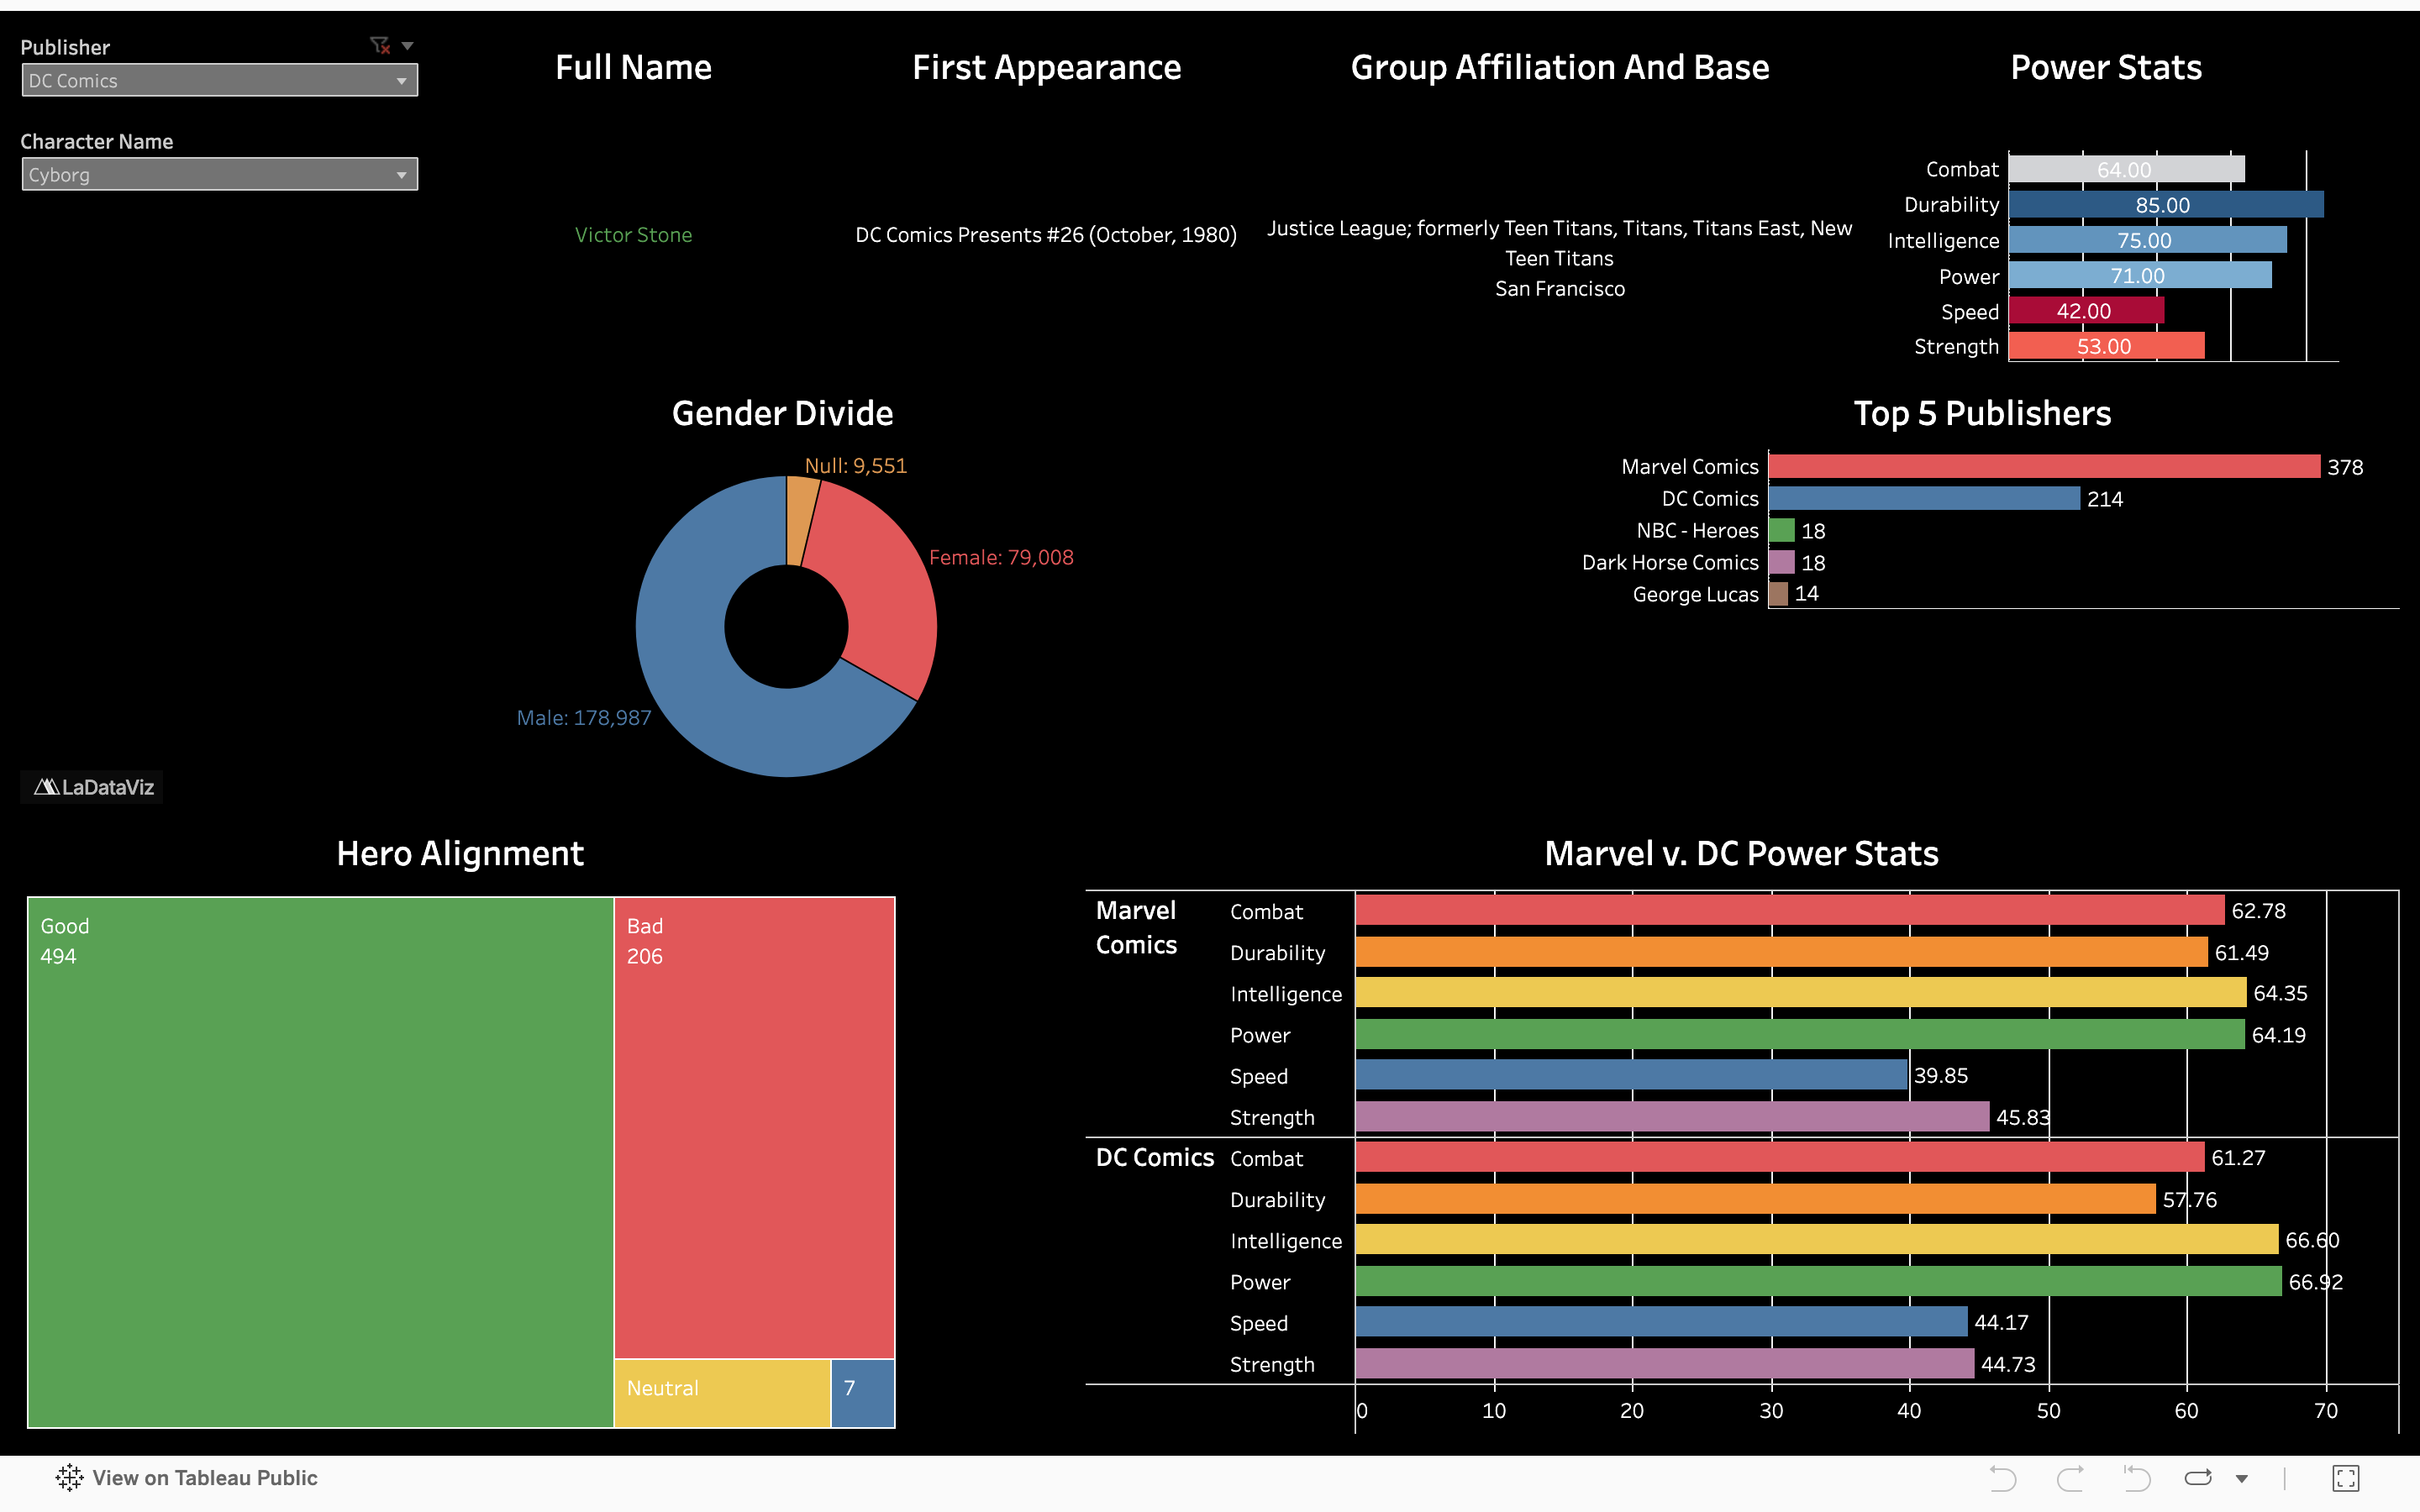

This screenshot's page, from the dashboard's own definition file:
{"tool":"tableau","page":{"name":"Dashboard 2","canvas":[1000,1000],"units":"permille","ordinal":0},"visuals":[{"type":"filter","title":"Char Power Stats","param":"[federated.1kn8je60tmyygf1c4n9020x3f44j].[none:Publisher:nk]","box":[6.2,10.6,170.7,65.1]},{"type":"worksheet","title":"Char's Full name","mark":"Automatic","box":[176.9,10.6,170.7,239.5]},{"type":"worksheet","title":"Char first Appearance","mark":"Automatic","box":[347.6,10.6,170.7,239.5]},{"type":"worksheet","title":"Char's Group Affiliation","mark":"Automatic","box":[518.3,10.6,253.2,239.5]},{"type":"worksheet","title":"Char Power Stats","mark":"Automatic","box":[771.5,10.6,197.7,239.5]},{"type":"blank","box":[969.2,10.6,24.6,239.5]},{"type":"filter","title":"Char Power Stats","param":"[federated.1kn8je60tmyygf1c4n9020x3f44j].[none:Name:nk]","box":[6.2,75.7,170.7,174.4]},{"type":"worksheet","title":"Sheet 13","box":[6.2,250.1,638.4,303.2]},{"type":"worksheet","title":"Top 5 publishers","mark":"Automatic","rows":["Publisher"],"cols":["ID"],"box":[644.6,250.1,349.3,303.2]},{"type":"worksheet","title":"Hero Alignment","mark":"Automatic","box":[6.2,553.3,440,436.1]},{"type":"worksheet","title":"M. v. DC Power Stats","mark":"Automatic","rows":["Publisher"],"box":[446.2,553.3,547.7,436.1]}]}

Visuals, with their boxes on the dashboard's canvas, which has no fixed pixel size, in thousandths of its width and height (x1, y1, x2, y2). These are canvas units, not pixel positions in the 2420x1512 screenshot, which may show the page scaled, cropped or inside an application window:
"Char Power Stats" filter: bbox(6, 11, 177, 76)
"Char's Full name" worksheet: bbox(177, 11, 348, 250)
"Char first Appearance" worksheet: bbox(348, 11, 518, 250)
"Char's Group Affiliation" worksheet: bbox(518, 11, 772, 250)
"Char Power Stats" worksheet: bbox(772, 11, 969, 250)
blank: bbox(969, 11, 994, 250)
"Char Power Stats" filter: bbox(6, 76, 177, 250)
"Sheet 13" worksheet: bbox(6, 250, 645, 553)
"Top 5 publishers" worksheet: bbox(645, 250, 994, 553)
"Hero Alignment" worksheet: bbox(6, 553, 446, 989)
"M. v. DC Power Stats" worksheet: bbox(446, 553, 994, 989)
